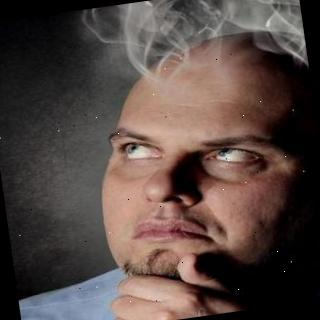smoke: (81, 0, 306, 83)
